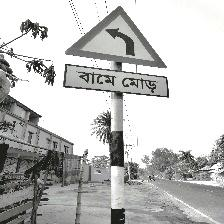Left-Turn: (63, 5, 169, 100)
